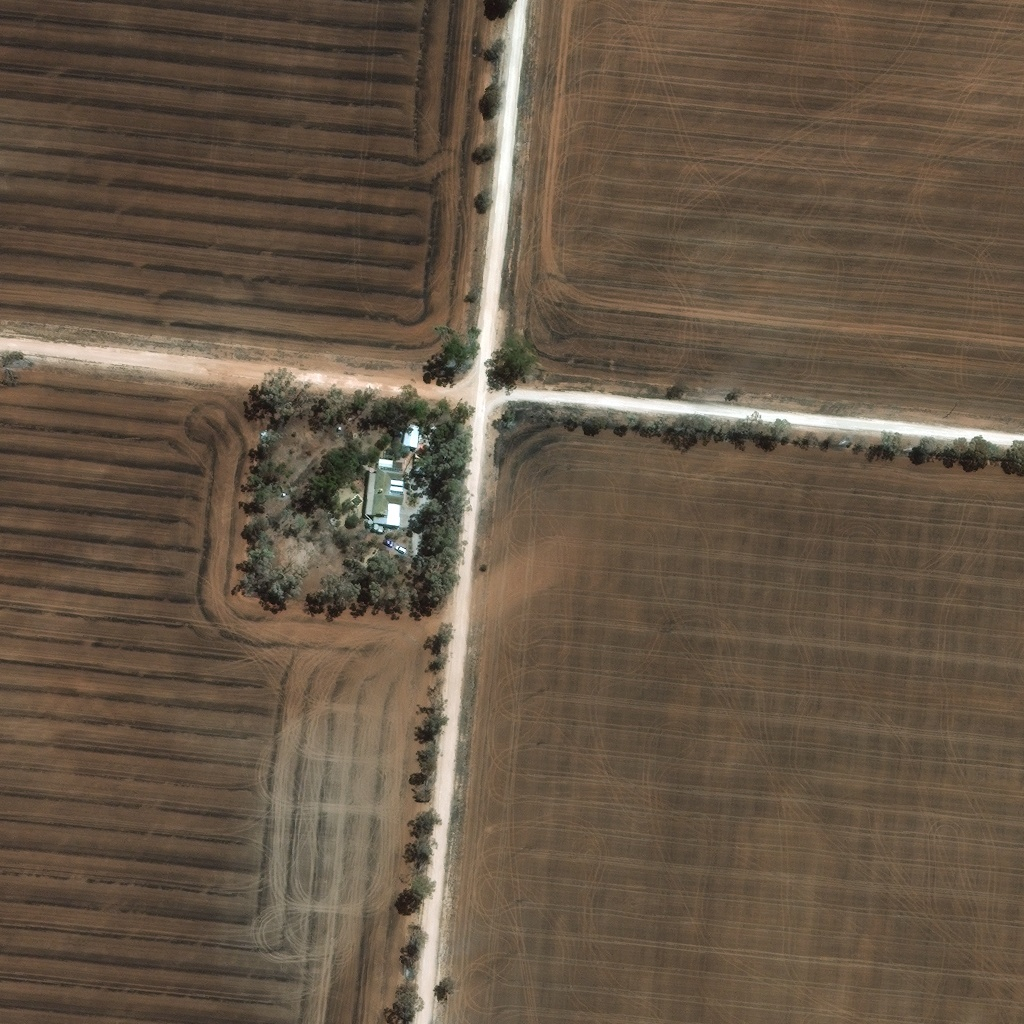0 no-damage: (365, 466, 405, 522), (403, 423, 429, 446), (414, 446, 429, 470), (379, 454, 393, 464)
